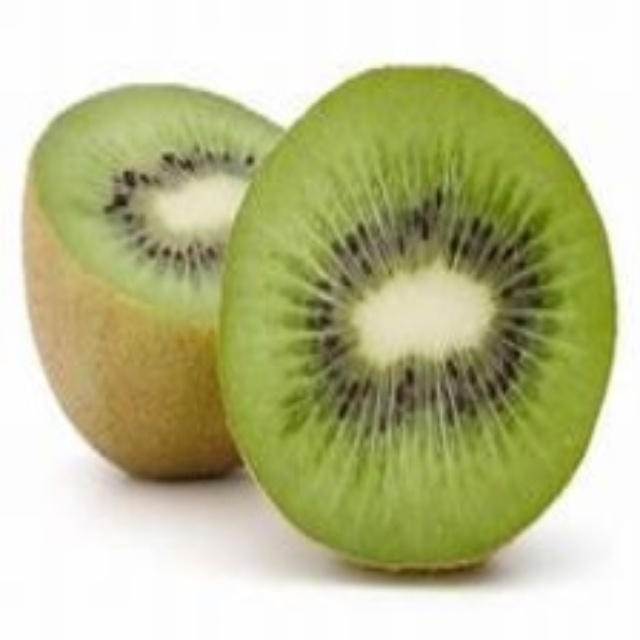kiwi: (212, 69, 625, 574), (20, 82, 329, 486)
